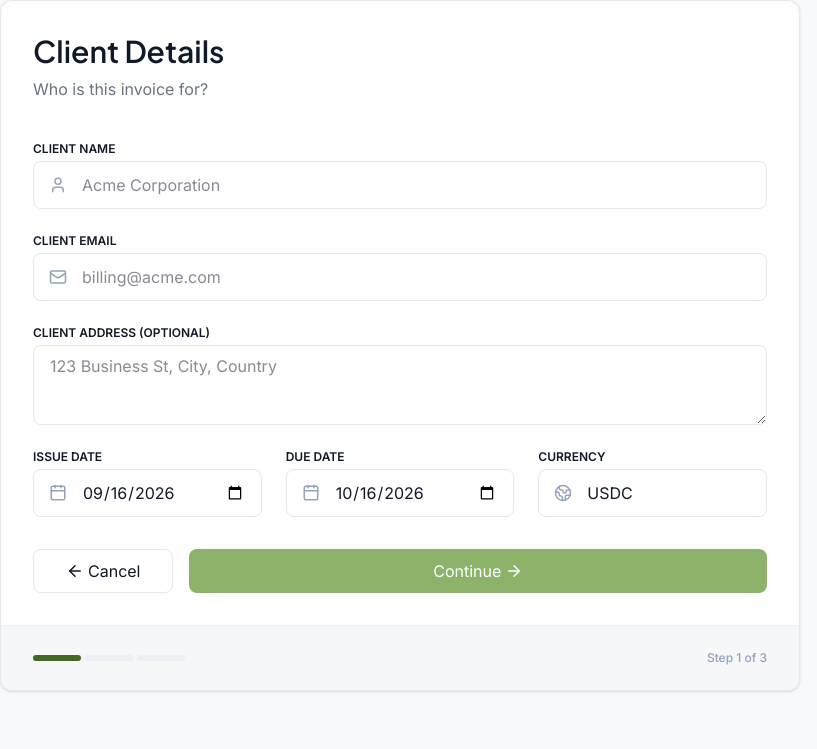
it: InvoiceForm › shows validation errors on empty submit
Click the button "Continue".
click(478, 571)  # box [190,549,767,593]
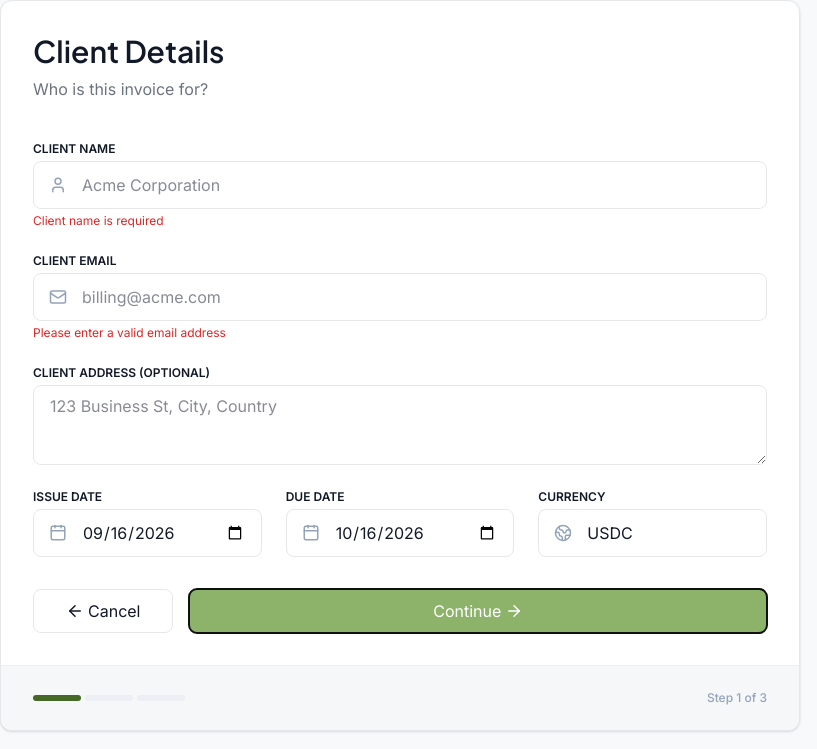
Result: the text "Client name is required" is shown at [33,213,164,228]
